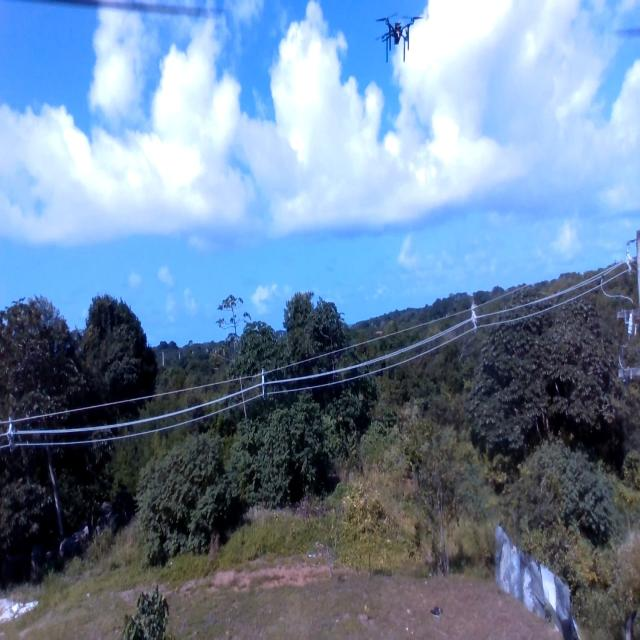-uav-: (369, 8, 424, 70)
